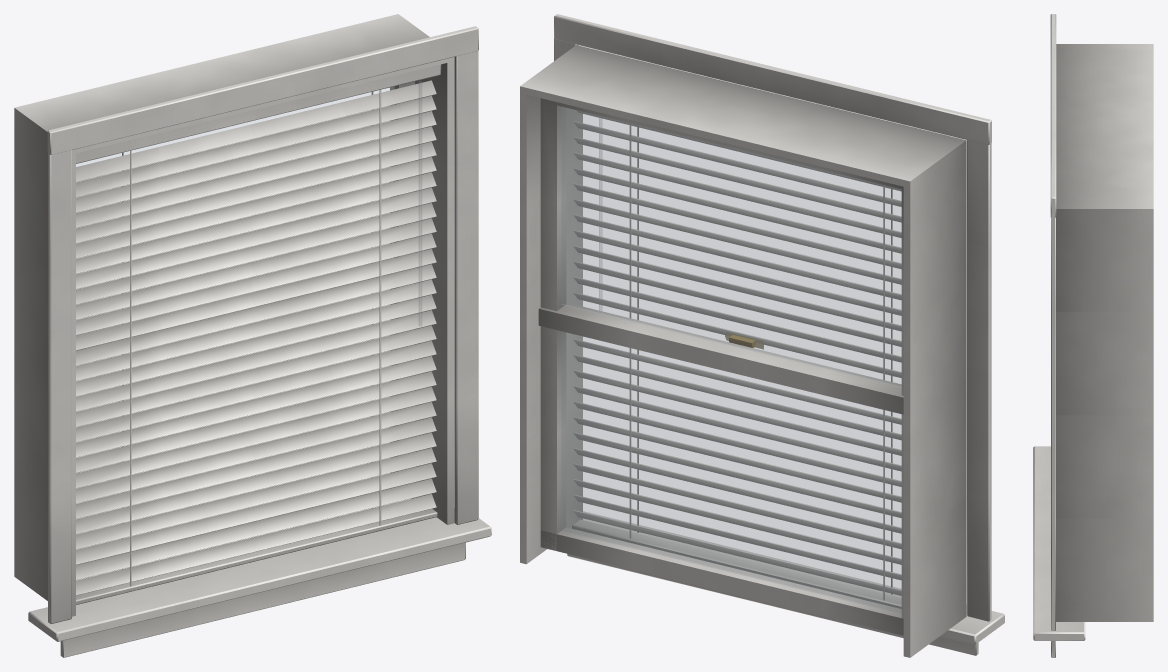
File: window_blinds_shut_check.glb
3 views of the same model, side by side, from view 1: azimuth 30°, elevation 25°; view 2: azimuth 150°, elevation 25°; view 3: azimuth 270°, elevation 25° (orthographic). The views are drawn at different scales.
Parts seen in each view (by area): view 1: body, opt_sill, glass; view 2: body, glass, opt_sill; view 3: body, opt_sill.
Boxes of the visible parts, x1,y1,x2,y2 form: body: [14, 14, 478, 623]; opt_sill: [28, 508, 491, 657]; glass: [76, 86, 394, 166]; body: [520, 14, 991, 657]; glass: [561, 107, 901, 613]; opt_sill: [567, 511, 1004, 655]; body: [1050, 14, 1153, 630]; opt_sill: [1033, 446, 1085, 657].
Size of what is drawn, in the model's own units: 1.36 by 1.58 by 0.37.
5 materials, 2 textured.
